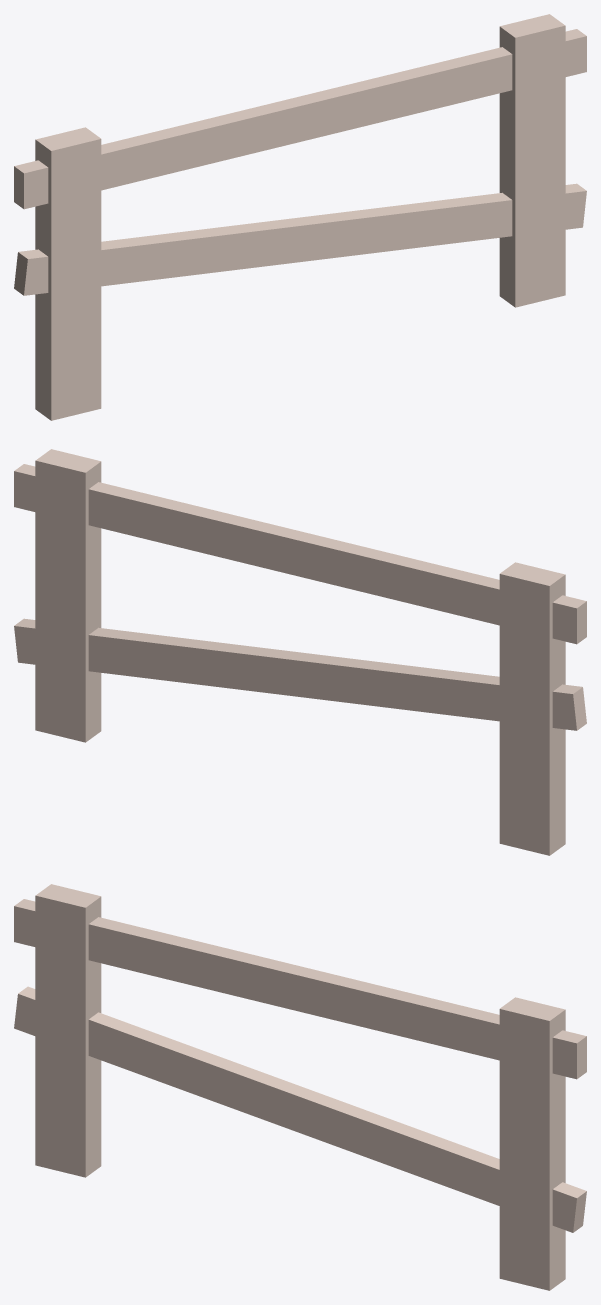
Rendered from fence_single2.fbx.
3 views of the same model, one above another, from view 1: azimuth 30°, elevation 25°; view 2: azimuth 150°, elevation 25°; view 3: azimuth 330°, elevation 25° (orthographic).
Visible parts, largest first — view 1: pCube6; view 2: pCube6; view 3: pCube6.
Boxes of the visible parts, x1,y1,x2,y2 form: pCube6: [14, 14, 586, 420]; pCube6: [14, 449, 586, 855]; pCube6: [14, 884, 586, 1290].
Size of the model in its own units: 291 by 133 by 14.12.
